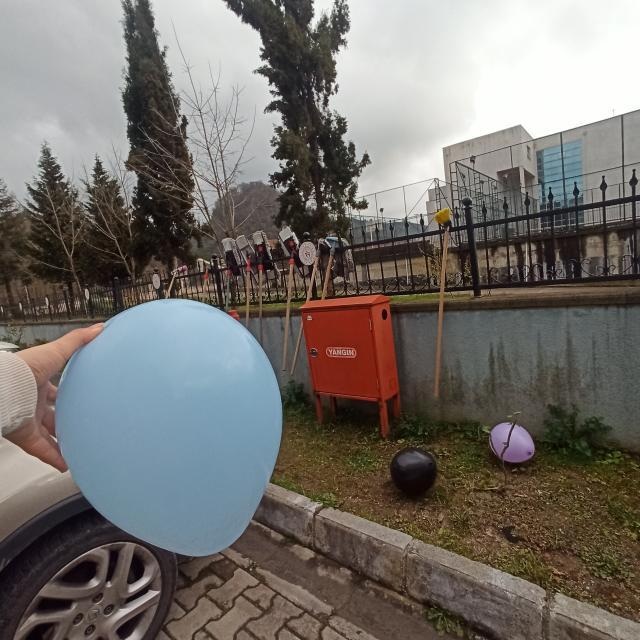balloon: (56, 297, 284, 559), (388, 444, 438, 494), (486, 421, 539, 466)
